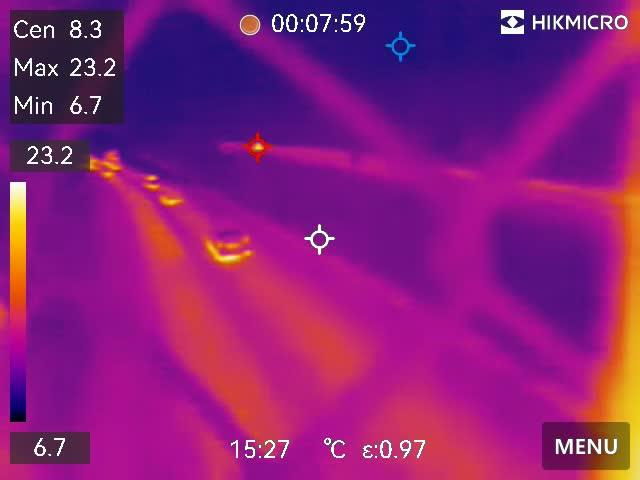vehicle: (202, 223, 260, 267), (158, 188, 183, 209)
